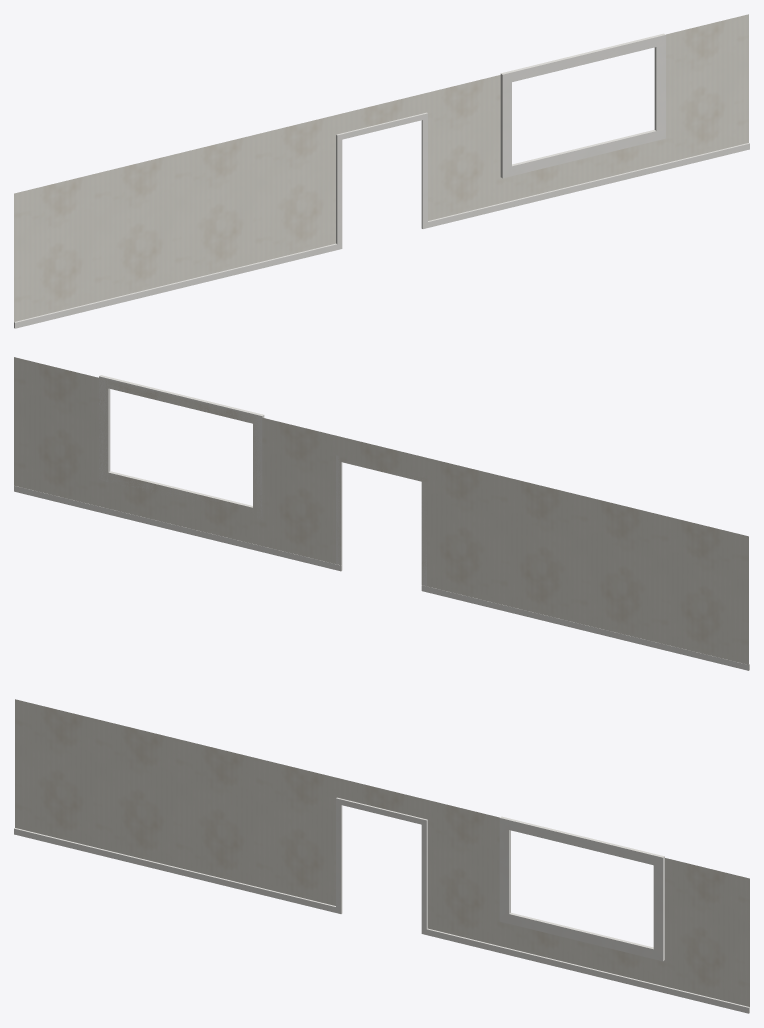
The picture shows the model from 3 angles, top to bottom: view 1: azimuth 30°, elevation 25°; view 2: azimuth 150°, elevation 25°; view 3: azimuth 330°, elevation 25°; orthographic projection.
Parts seen in each view (by area): view 1: jx_wm_18_532e97bc; view 2: jx_wm_18_532e97bc; view 3: jx_wm_18_532e97bc.
Part boxes in pixels (x1,y1,x2,y2): jx_wm_18_532e97bc: (14,14,749,328); jx_wm_18_532e97bc: (14,357,749,670); jx_wm_18_532e97bc: (14,699,749,1013).
Bounding box in the file's own units: 18.3 × 3.23 × 0.086.
Materials: 2 (2 with a texture image).
